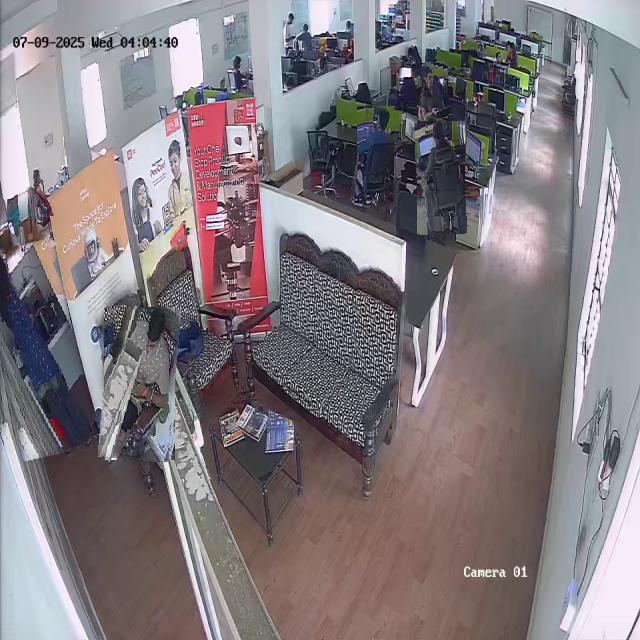person: (0, 240, 86, 458), (101, 306, 178, 461), (416, 120, 466, 235), (353, 105, 398, 210), (415, 65, 450, 119), (30, 167, 53, 217)
